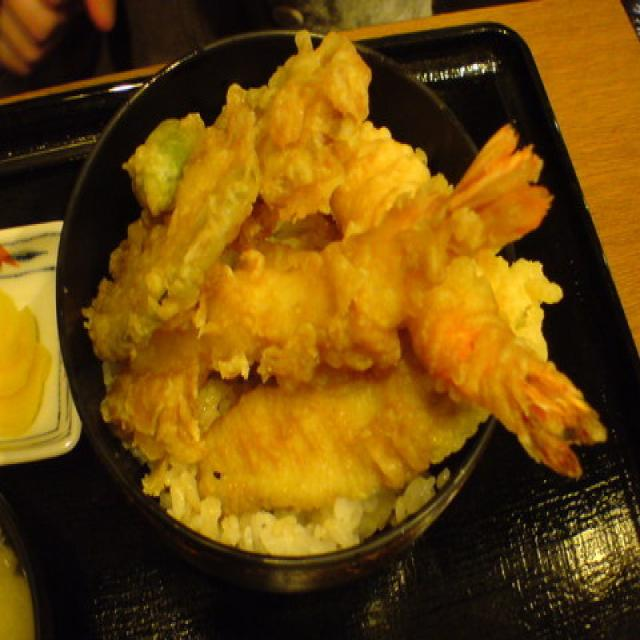熟制海鲜: (48, 21, 612, 619)
